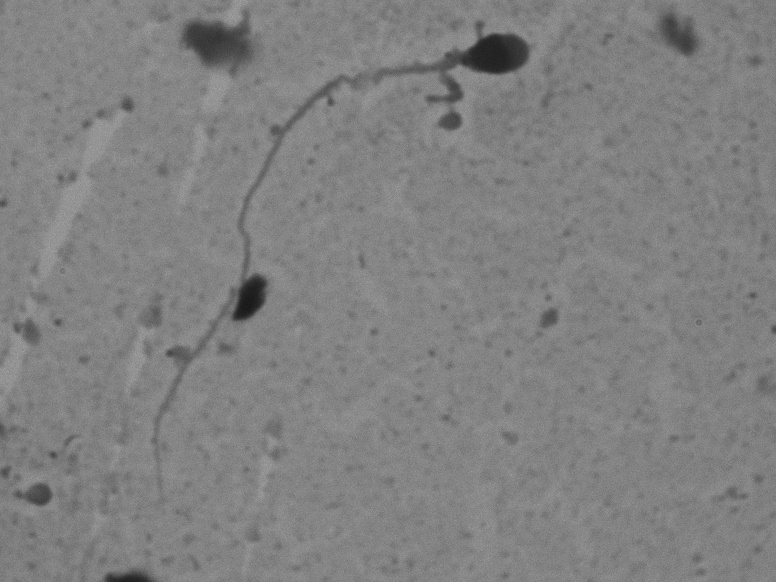Abnormal: (143, 17, 550, 526)
